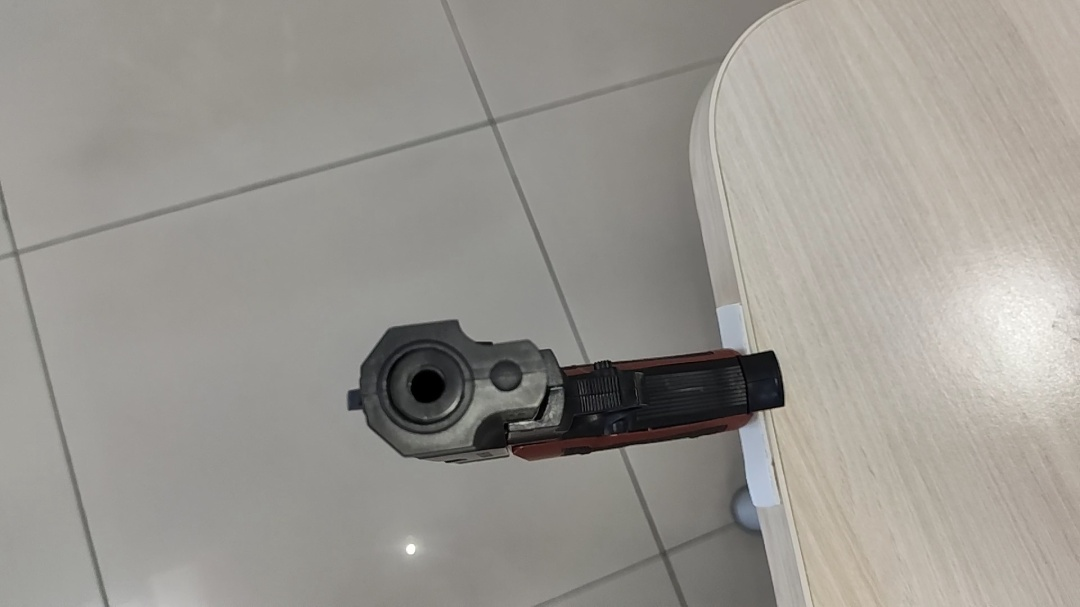gun: (346, 318, 788, 465)
